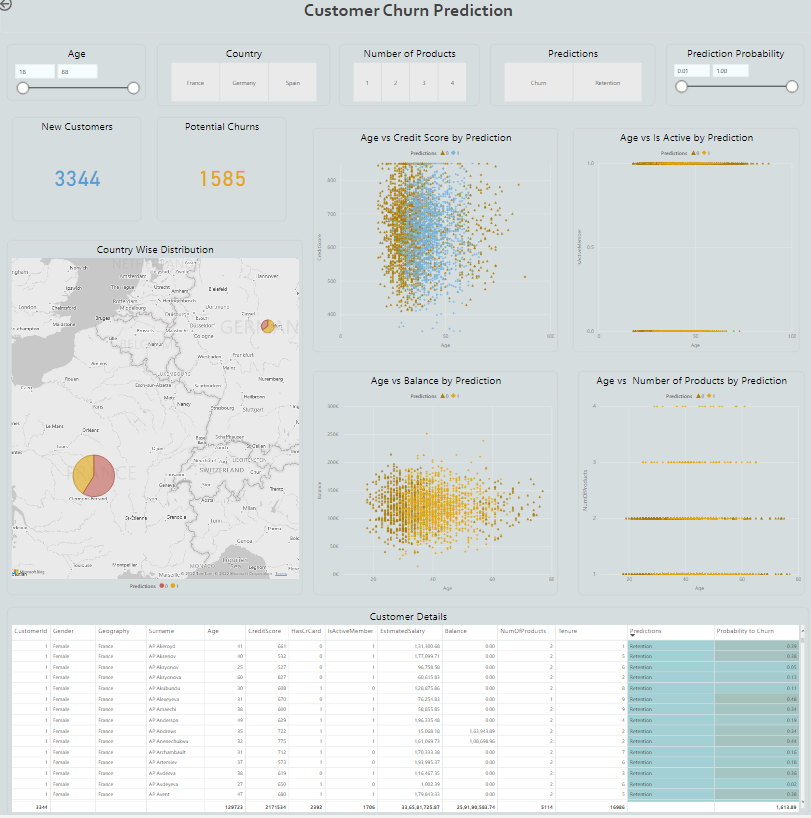

This screenshot's page, from the dashboard's own definition file:
{"tool":"powerbi","page":{"name":"Page 1","canvas":[1700,1700],"ordinal":0},"visuals":[{"type":"textbox","box":[10.5,0,1689.5,80.2],"z":0},{"type":"slicer","title":"Age","fields":{"Values":["Churn Predictions Output.Age"]},"box":[25,103.9,286.6,117],"z":1000},{"type":"slicer","title":"Country","fields":{"Values":["Churn Predictions Output.Geography"]},"box":[335.1,103.6,358.4,128],"z":2000},{"type":"slicer","title":"Predictions","fields":{"Values":["Churn Predictions Output.Predictions - Churn or Not Desc"]},"box":[1024,103.6,342.1,128],"z":3000},{"type":"slicer","title":"Number of Products","fields":{"Values":["Churn Predictions Output.NumOfProducts"]},"box":[712.1,103.6,290.9,128],"z":4000},{"type":"slicer","title":"Prediction Probability","fields":{"Values":["Churn Predictions Output.Predictions - Probability to Churn"]},"box":[1389.3,103.6,286.2,128],"z":5000},{"type":"card","title":"New Customers","fields":{"Values":["Churn Predictions Output.CustomerId"]},"box":[34.9,254.8,267.6,216.4],"z":6000},{"type":"card","title":"Potential Churns","fields":{"Values":["Churn Predictions Output.CustomerId"]},"box":[335.1,254.8,267.6,216.4],"z":7000},{"type":"scatterChart","title":"Age vs Credit Score by Prediction","fields":{"X":["Churn Predictions Output.Age"],"Y":["Churn Predictions Output.CreditScore"],"Series":["Churn Predictions Output.Predictions - Churn or Not"],"Category":["Churn Predictions Output.CustomerId"]},"box":[658.6,276.9,507.3,464.3],"z":8000},{"type":"scatterChart","title":"Age vs Balance by Prediction","fields":{"Series":["Churn Predictions Output.Predictions - Churn or Not"],"X":["Churn Predictions Output.Age"],"Y":["Churn Predictions Output.Balance"],"Category":["Churn Predictions Output.CustomerId"]},"box":[658.6,780.8,507.3,464],"z":9000},{"type":"scatterChart","title":"Age vs  Number of Products by Prediction","fields":{"Series":["Churn Predictions Output.Predictions - Churn or Not"],"X":["Churn Predictions Output.Age"],"Category":["Churn Predictions Output.CustomerId"],"Y":["Churn Predictions Output.NumOfProducts"]},"box":[1206.6,780.8,468.9,464],"z":10000},{"type":"scatterChart","title":"Age vs Is Active by Prediction","fields":{"X":["Churn Predictions Output.Age"],"Series":["Churn Predictions Output.Predictions - Churn or Not"],"Category":["Churn Predictions Output.CustomerId"],"Y":["Churn Predictions Output.IsActiveMember"]},"box":[1196.2,276.9,468.9,464.3],"z":11000},{"type":"map","title":"Country Wise Distribution","fields":{"Category":["Churn Predictions Output.Geography"],"Size":["Churn Predictions Output.CustomerId"],"Series":["Churn Predictions Output.Predictions - Churn or Not"]},"box":[24.4,509.7,612,735.4],"z":12000},{"type":"tableEx","title":"Customer Details","fields":{"Values":["Churn Predictions Output.CustomerId","Churn Predictions Output.Gender","Churn Predictions Output.Geography","Churn Predictions Output.Surname","Churn Predictions Output.Age","Churn Predictions Output.CreditScore","Churn Predictions Output.HasCrCard","Churn Predictions Output.IsActiveMember","Churn Predictions Output.EstimatedSalary","Churn Predictions Output.Balance","Churn Predictions Output.NumOfProducts","Churn Predictions Output.Tenure"]},"box":[24.4,1268.3,1660.4,431.7],"z":13000},{"type":"actionButton","box":[0,0,100,40],"z":14000}]}

Visuals, with their boxes in screenshot pixels (x1, y1, x2, y2), scaled from the page's 1700x1700 canvas onto the 811x818 screenshot:
textbox: x1=5, y1=0, x2=810, y2=39
"Age" slicer: x1=12, y1=50, x2=149, y2=106
"Country" slicer: x1=160, y1=50, x2=331, y2=111
"Predictions" slicer: x1=489, y1=50, x2=652, y2=111
"Number of Products" slicer: x1=340, y1=50, x2=478, y2=111
"Prediction Probability" slicer: x1=663, y1=50, x2=799, y2=111
"New Customers" card: x1=17, y1=123, x2=144, y2=227
"Potential Churns" card: x1=160, y1=123, x2=288, y2=227
"Age vs Credit Score by Prediction" scatterChart: x1=314, y1=133, x2=556, y2=357
"Age vs Balance by Prediction" scatterChart: x1=314, y1=376, x2=556, y2=599
"Age vs  Number of Products by Prediction" scatterChart: x1=576, y1=376, x2=799, y2=599
"Age vs Is Active by Prediction" scatterChart: x1=571, y1=133, x2=794, y2=357
"Country Wise Distribution" map: x1=12, y1=245, x2=304, y2=599
"Customer Details" tableEx: x1=12, y1=610, x2=804, y2=817
actionButton: x1=0, y1=0, x2=48, y2=19
